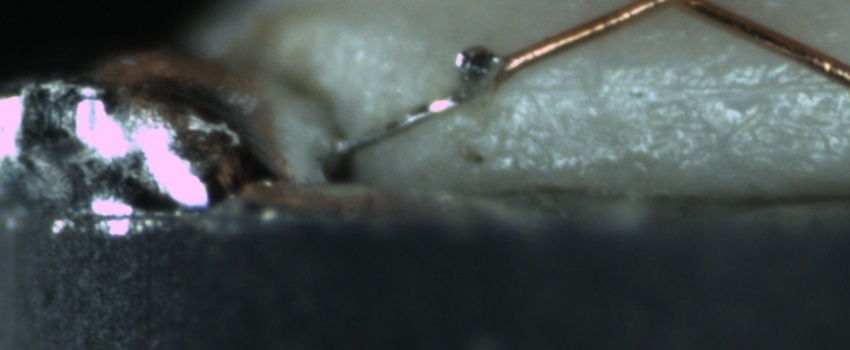CL: (629, 0, 720, 18)
DL: (516, 53, 850, 117)
TB: (456, 43, 504, 96)
TS: (334, 59, 506, 157)
TTCW: (330, 41, 546, 158)
